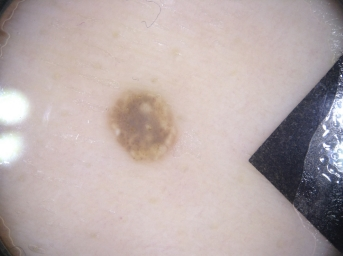seborrheic keratosis: (84, 77, 196, 184)
